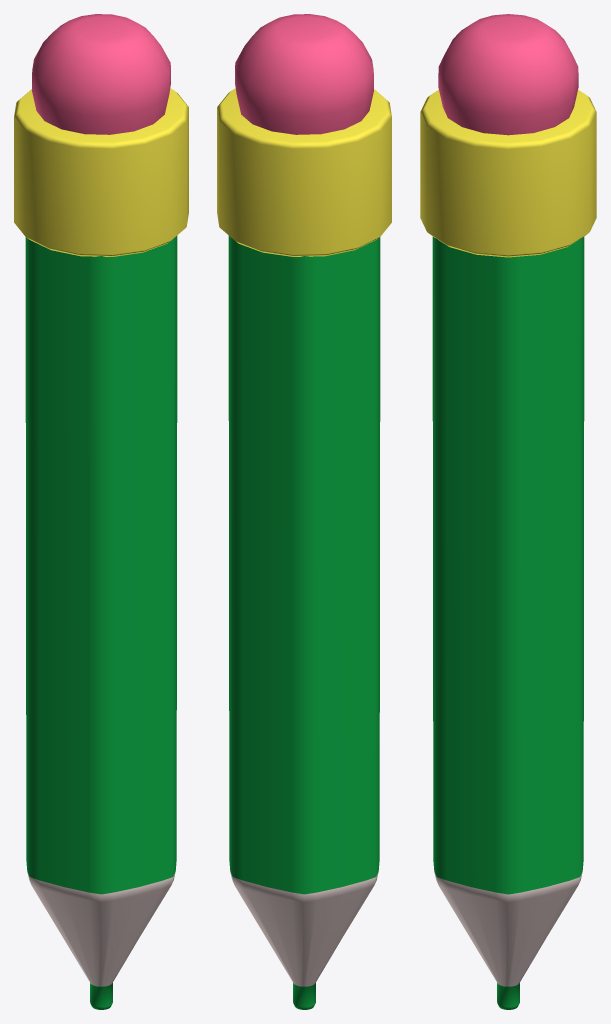
The model's file is Public_2_Pencil_5.glb.
3 views of the same model, side by side, from view 1: azimuth 30°, elevation 25°; view 2: azimuth 150°, elevation 25°; view 3: azimuth 270°, elevation 25° (orthographic).
Visible parts, largest first — view 1: Public_2_Pencil_5; view 2: Public_2_Pencil_5; view 3: Public_2_Pencil_5.
Boxes of the visible parts, x1,y1,x2,y2 form: Public_2_Pencil_5: (14,14,188,1009); Public_2_Pencil_5: (217,14,391,1009); Public_2_Pencil_5: (420,14,596,1009).
Size of the model in its own units: 0.2801 by 1.72 by 0.2802.
Materials: 1 (1 with a texture image).
